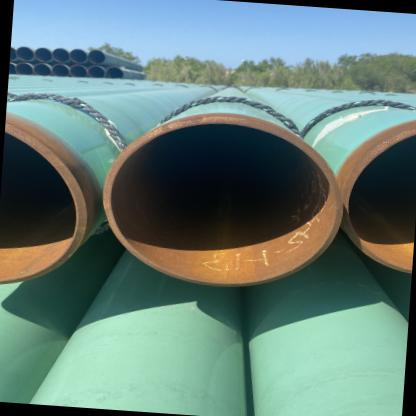clean: (220, 97, 251, 131)
